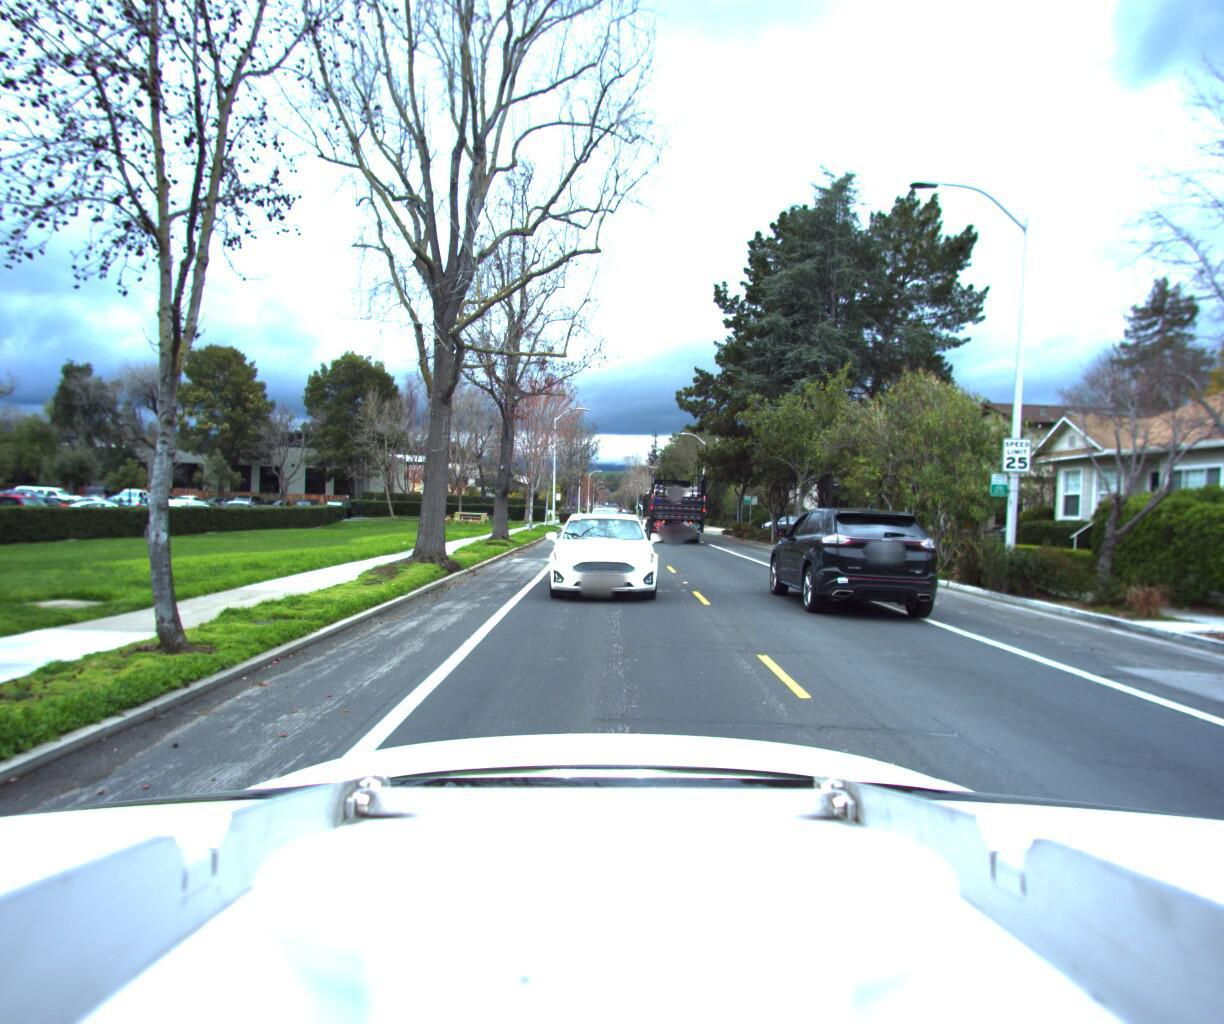car: (758, 509, 932, 619), (540, 511, 658, 609), (590, 510, 622, 537)
truck: (638, 474, 709, 546)
